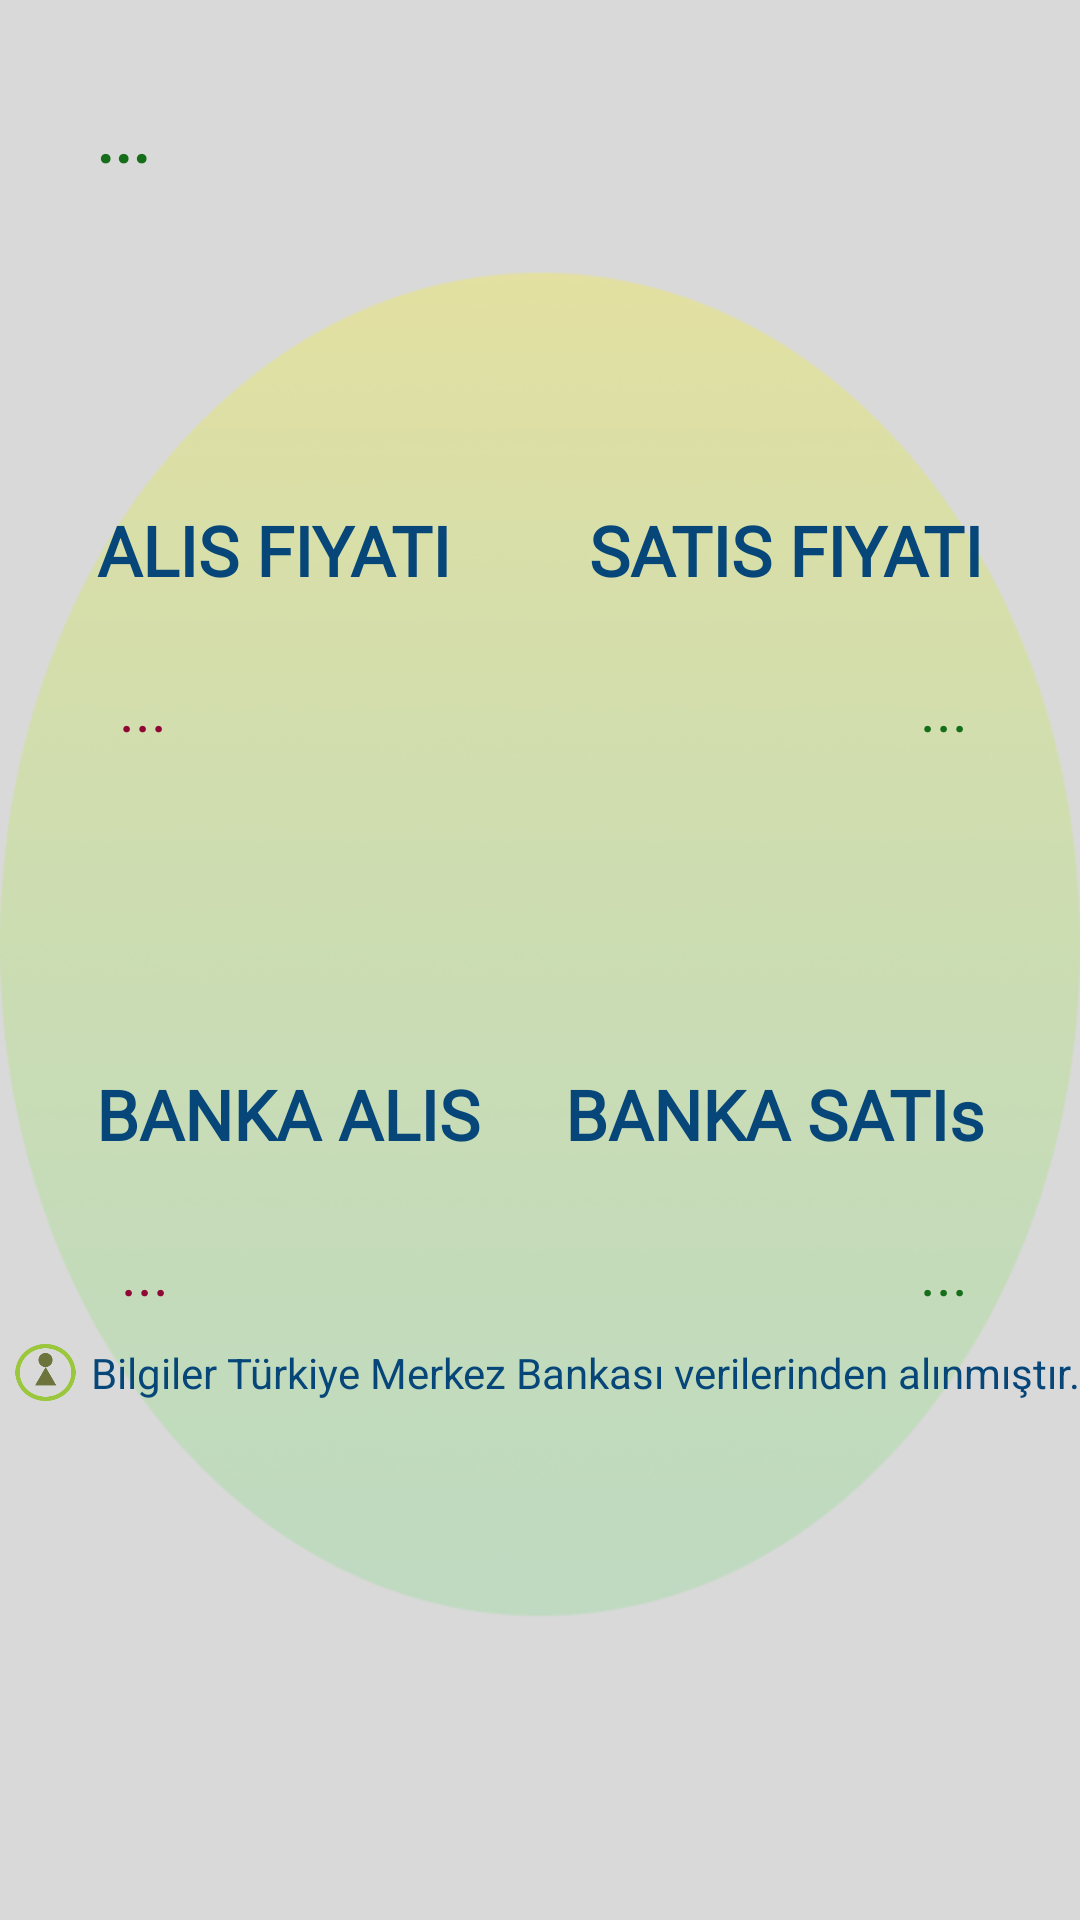

Icon bounding boxes for this 1080px x 1920px phone screenshot, format (x1, y1, x2, y2):
info: (15, 1344, 76, 1401)
